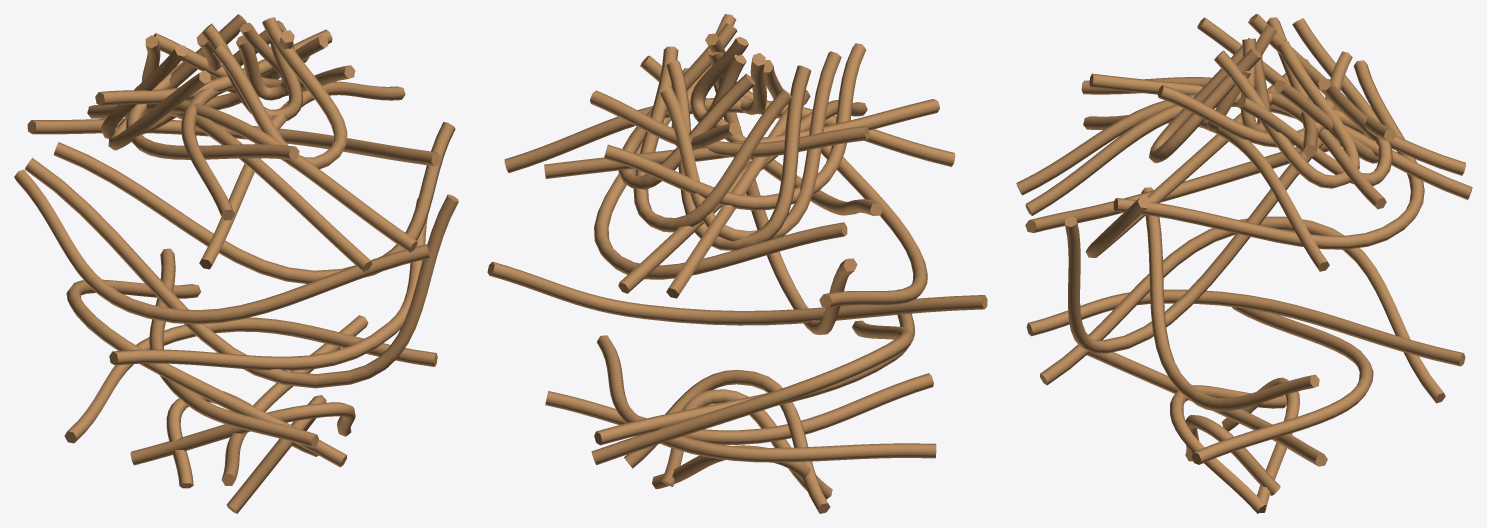
File: gulungan-semak.glb
3 views of the same model, side by side, from view 1: azimuth 30°, elevation 25°; view 2: azimuth 150°, elevation 25°; view 3: azimuth 270°, elevation 25° (orthographic). The views are drawn at different scales.
Parts seen in each view (by area): view 1: tube.019, tube.024, tube.008, tube.009, tube.007, tube.022, tube.011, tube.015, tube.012, tube.003, tube.017, tube.013 (+14 smaller); view 2: tube.009, tube.007, tube.022, tube.014, tube.010, tube.020, tube.016, tube.002, tube.012, tube.006, tube.024, tube.005 (+14 smaller); view 3: tube.007, tube.012, tube.003, tube.019, tube.022, tube.009, tube.017, tube.015, tube.001, tube.010, tube.024, tube.011 (+14 smaller).
Part boxes in pixels (x1=…): tube.019: x1=24, y1=158, x2=458, y2=388; tube.024: x1=14, y1=169, x2=430, y2=324; tube.008: x1=53, y1=122, x2=455, y2=283; tube.009: x1=109, y1=198, x2=427, y2=370; tube.007: x1=66, y1=279, x2=347, y2=467; tube.022: x1=64, y1=317, x2=437, y2=443; tube.011: x1=213, y1=17, x2=347, y2=169; tube.015: x1=87, y1=100, x2=417, y2=252; tube.012: x1=27, y1=118, x2=440, y2=166; tube.003: x1=149, y1=248, x2=318, y2=447; tube.017: x1=167, y1=112, x2=372, y2=271; tube.013: x1=130, y1=402, x2=355, y2=465; tube.009: x1=487, y1=261, x2=987, y2=325; tube.007: x1=591, y1=320, x2=914, y2=465; tube.022: x1=597, y1=335, x2=936, y2=462; tube.014: x1=545, y1=373, x2=933, y2=444; tube.010: x1=633, y1=46, x2=792, y2=232; tube.020: x1=604, y1=43, x2=865, y2=210; tube.016: x1=660, y1=51, x2=841, y2=241; tube.002: x1=666, y1=60, x2=811, y2=250; tube.012: x1=594, y1=68, x2=847, y2=279; tube.006: x1=504, y1=98, x2=955, y2=172; tube.024: x1=819, y1=145, x2=927, y2=307; tube.005: x1=544, y1=99, x2=939, y2=178; tube.007: x1=1040, y1=216, x2=1445, y2=403; tube.012: x1=1113, y1=60, x2=1424, y2=249; tube.003: x1=1026, y1=289, x2=1465, y2=366; tube.019: x1=1065, y1=138, x2=1323, y2=353; tube.022: x1=1191, y1=307, x2=1373, y2=464; tube.009: x1=1141, y1=187, x2=1319, y2=411; tube.017: x1=1016, y1=94, x2=1472, y2=199; tube.015: x1=1025, y1=92, x2=1465, y2=215; tube.001: x1=1214, y1=41, x2=1359, y2=188; tube.010: x1=1237, y1=18, x2=1392, y2=185; tube.024: x1=1025, y1=141, x2=1342, y2=232; tube.011: x1=1149, y1=38, x2=1261, y2=163.
Size of the model in its own units: 2.92 by 3.17 by 2.95.
